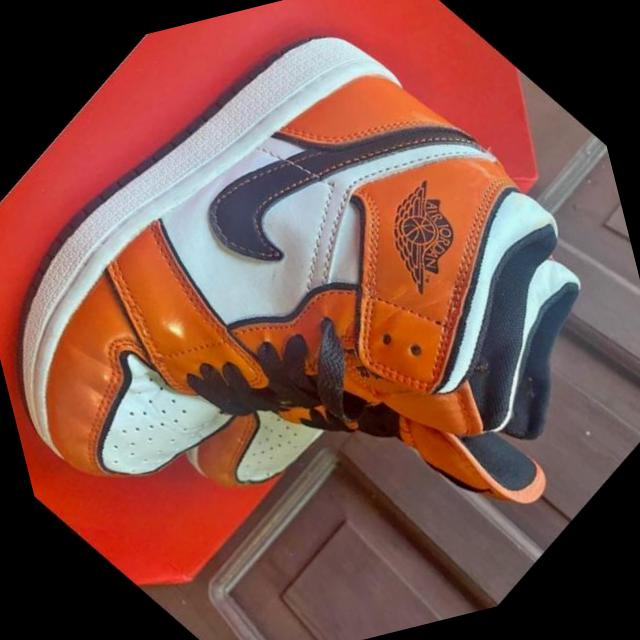nike_fake_jordan: (0, 0, 640, 640), (121, 111, 640, 640)
